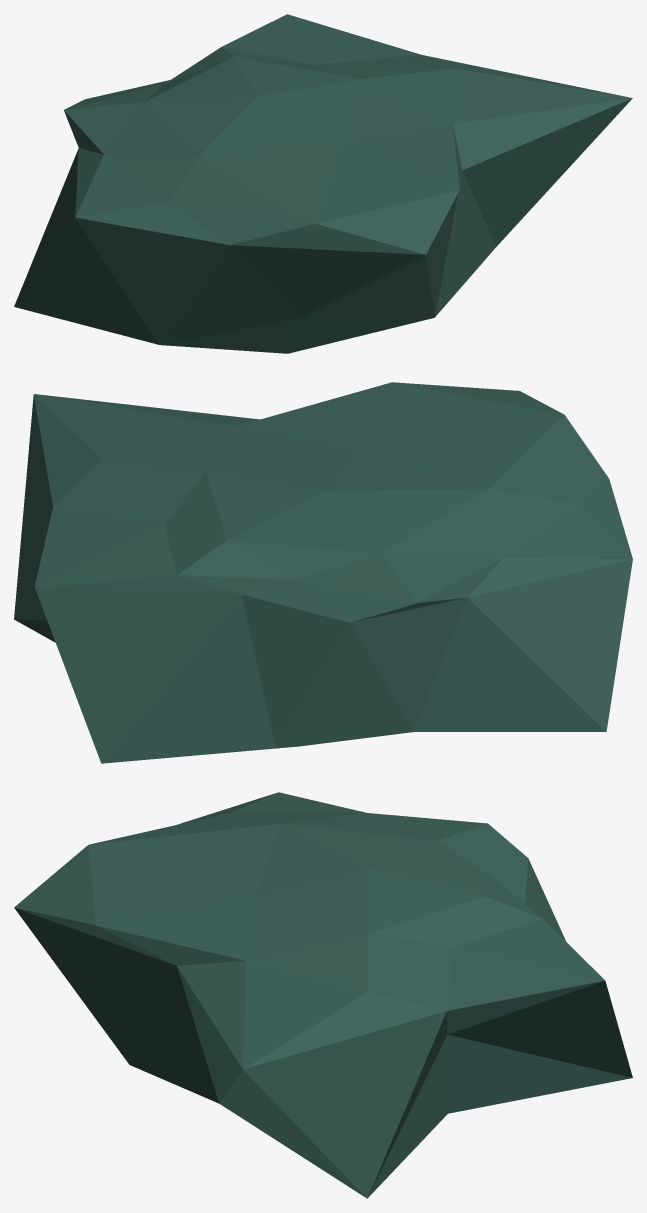
The model's file is Stone_30.fbx.
3 views of the same model, one above another, from view 1: azimuth 30°, elevation 25°; view 2: azimuth 150°, elevation 25°; view 3: azimuth 270°, elevation 25° (orthographic). The views are drawn at different scales.
Visible parts, largest first — view 1: Stone 30; view 2: Stone 30; view 3: Stone 30.
Part boxes in pixels (x1,y1,x2,y2): Stone 30: (14, 14, 632, 353); Stone 30: (14, 382, 632, 763); Stone 30: (14, 792, 632, 1198).
Size of the model in its own units: 208 by 70.23 by 189.
